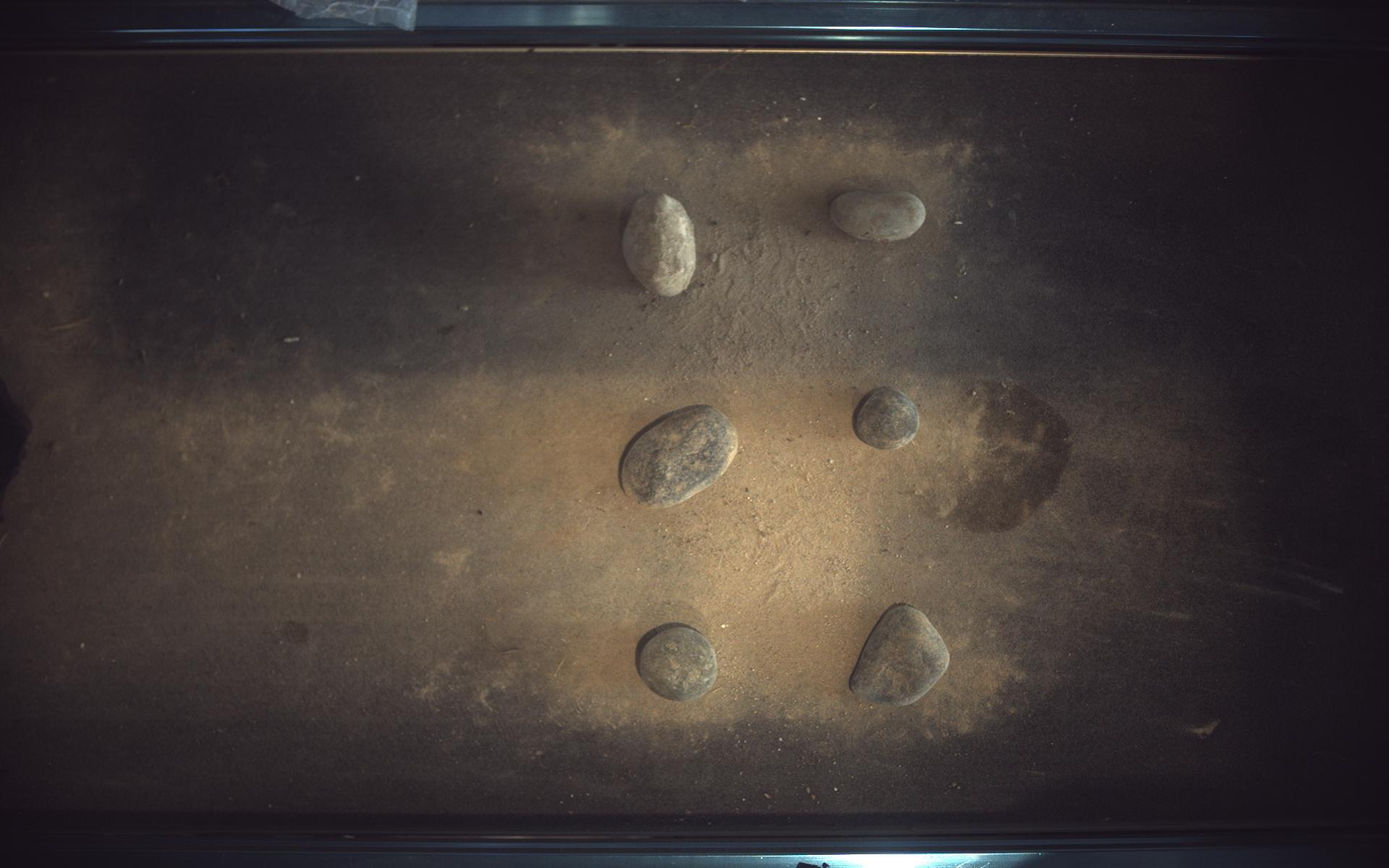stone: (622, 406, 739, 508), (851, 604, 952, 707), (624, 192, 697, 296), (640, 626, 718, 702), (831, 190, 927, 240), (856, 387, 921, 450)
